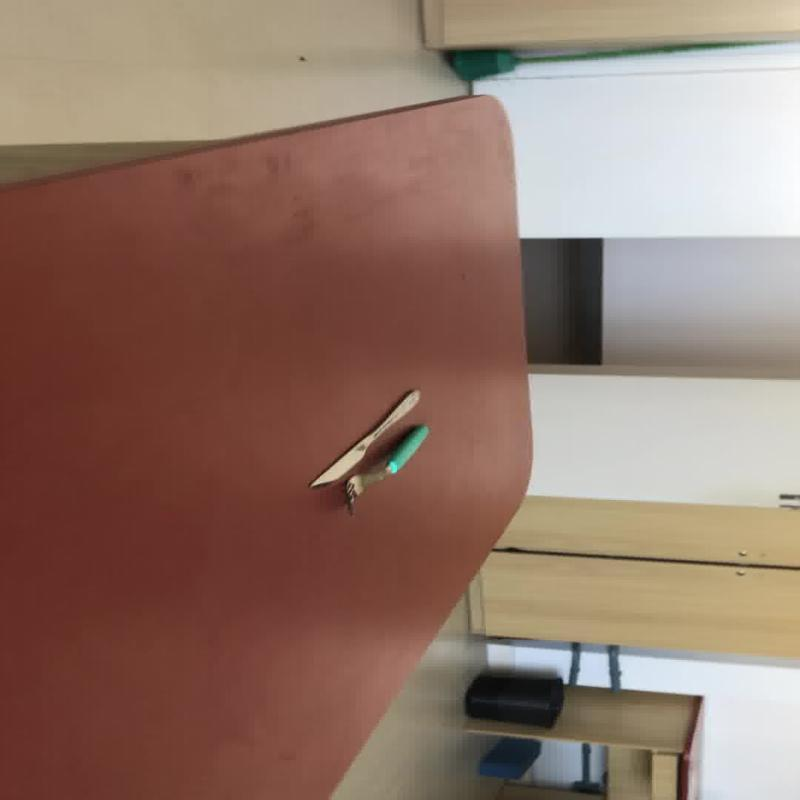fork: (342, 423, 430, 516)
knife: (306, 388, 420, 488), (340, 423, 430, 516)
